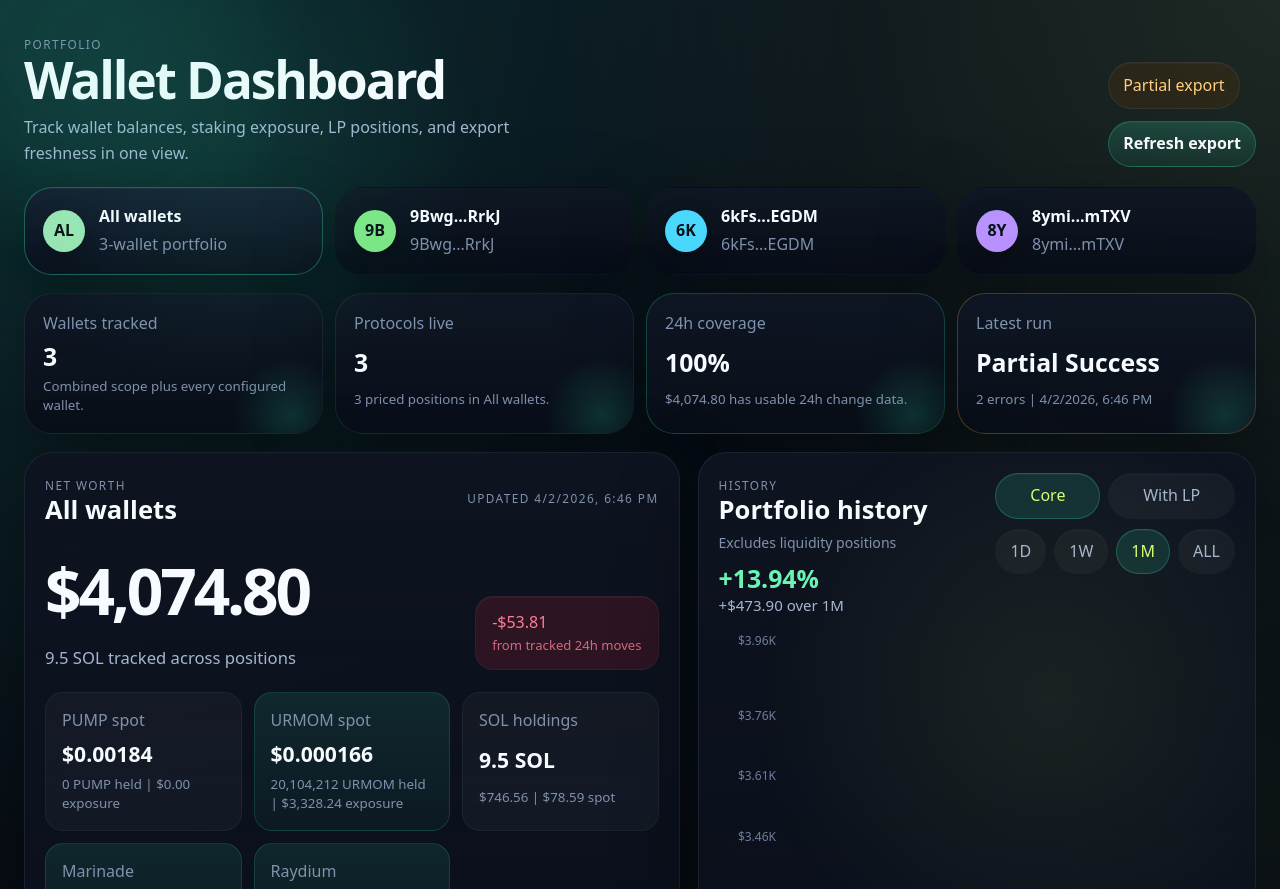
Scenario: frontend dashboard › loads portfolio data, switches scope, shows partial export health, and opens manual refresh
Expected: the heading "Wallet Dashboard" is shown, top-left (24, 44), bottom-right (445, 114)
Expected: the text "Net worth" is shown, top-left (45, 477), bottom-right (126, 493)
Click the button "With LP".
click(1172, 496)  # box top-left (1108, 473), bottom-right (1235, 518)
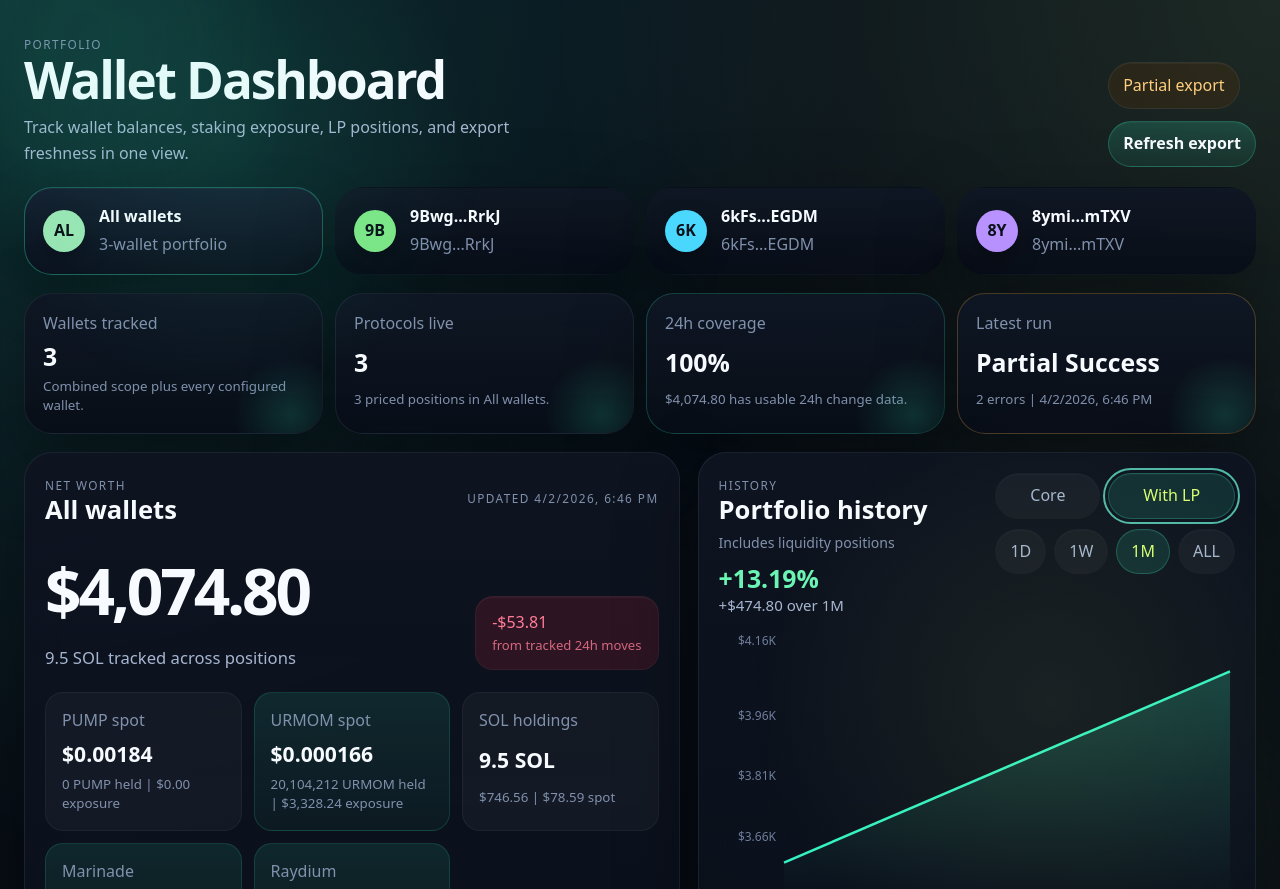
Expected: the text "Includes liquidity positions" is shown, top-left (718, 533), bottom-right (895, 552)
Expected: the text "+13.19%" is shown, top-left (718, 561), bottom-right (819, 595)
Click the button "6K 6kFs...EGDM 6kFs...EGDM".
click(796, 230)  # box top-left (646, 186), bottom-right (945, 274)
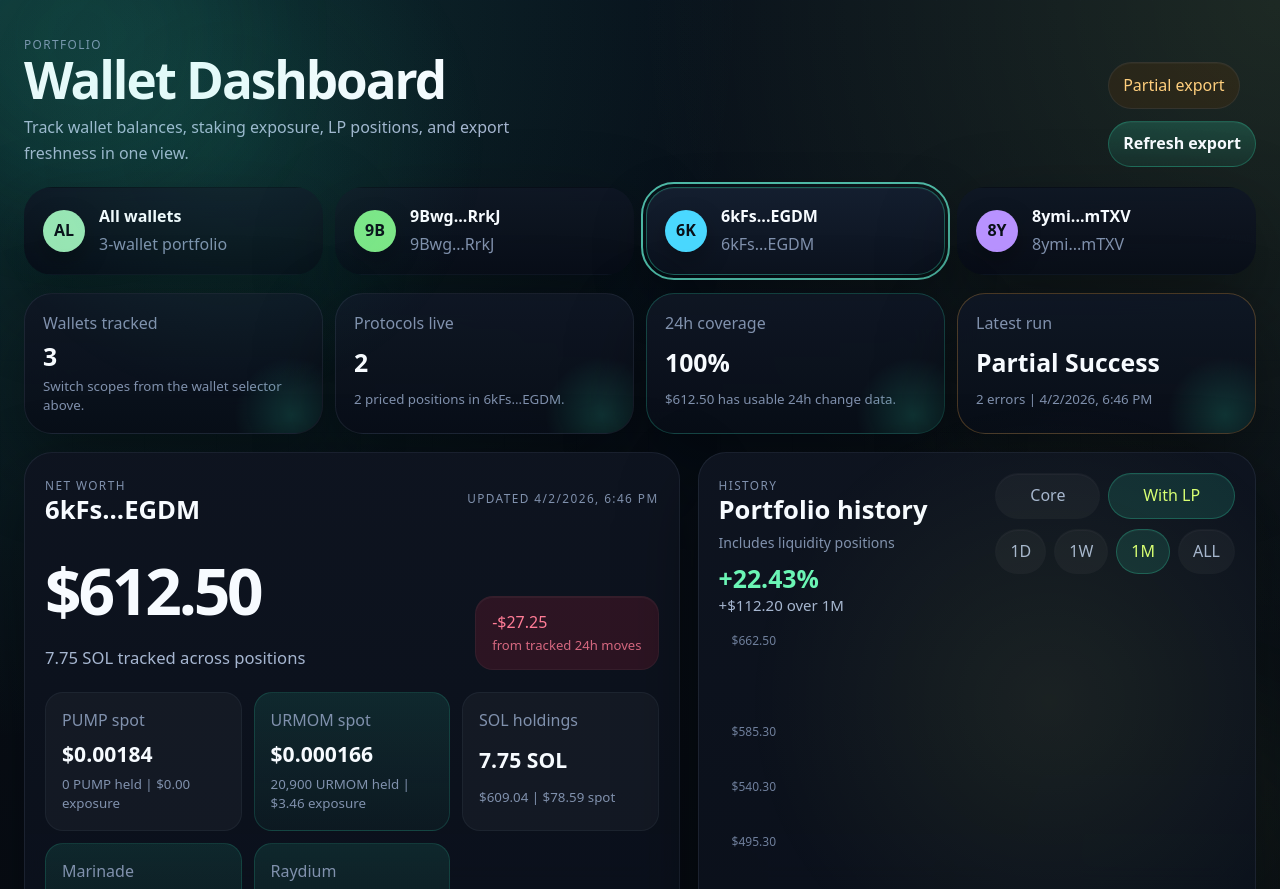
Expected: the button "6K 6kFs...EGDM 6kFs...EGDM" has class "is-active", top-left (646, 186), bottom-right (945, 274)
Click the button "Refresh export".
click(1182, 144)  # box top-left (1108, 121), bottom-right (1256, 166)
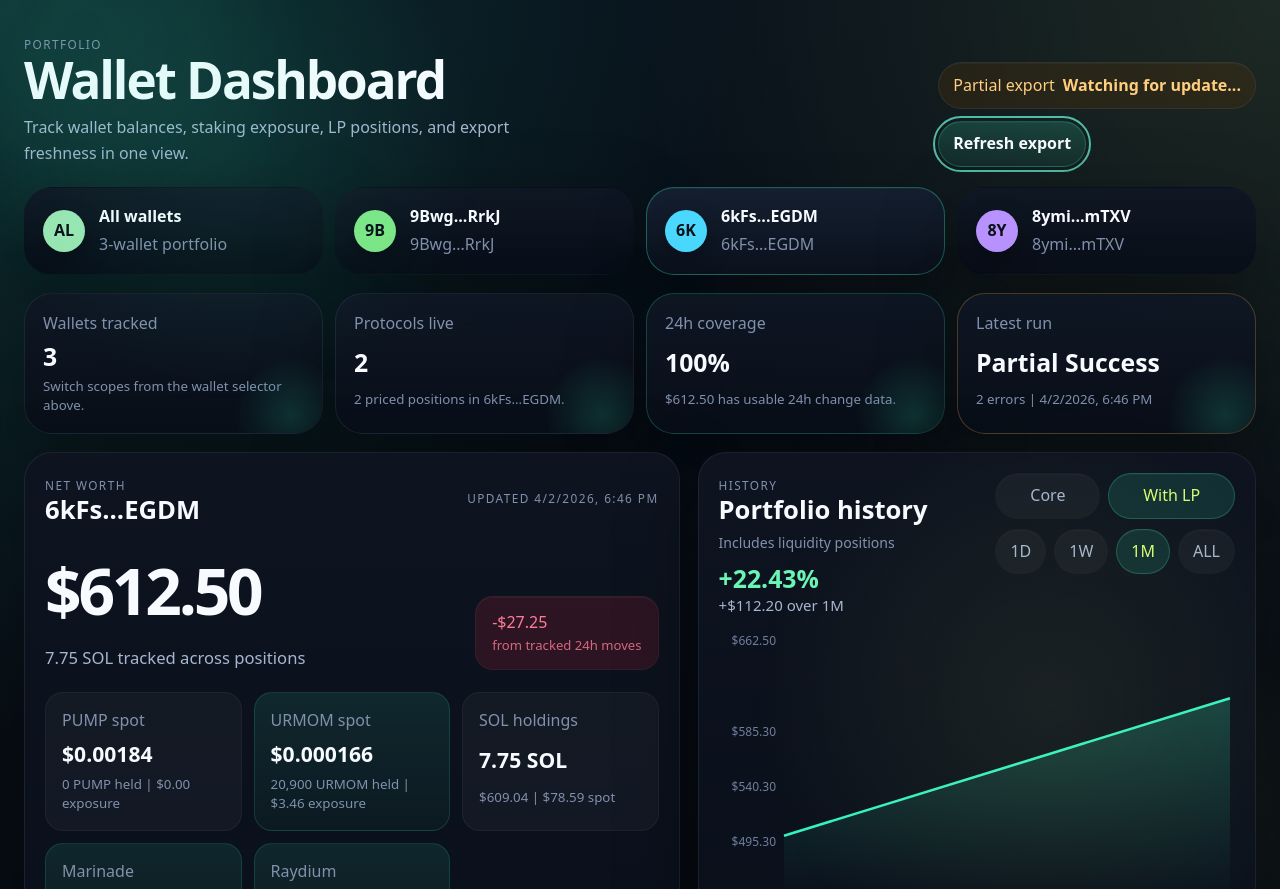
Expected: the text "Watching for update..." is shown, top-left (1063, 74), bottom-right (1241, 97)
